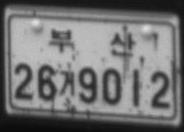0: (101, 66, 122, 104)
1: (126, 68, 146, 107)
2: (150, 69, 171, 109), (13, 61, 33, 100)
6: (36, 62, 56, 100)
9: (77, 65, 98, 103)
거: (58, 70, 76, 97)
부산_D: (48, 27, 136, 57)
